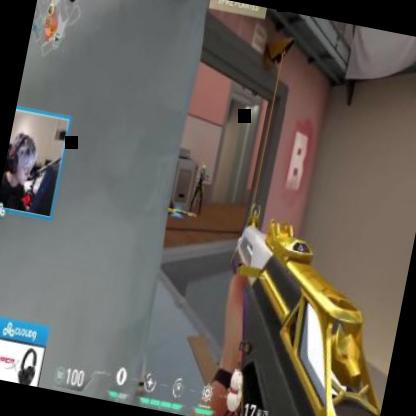enemy: (188, 160, 211, 214)
enemy_head: (199, 162, 206, 174)
